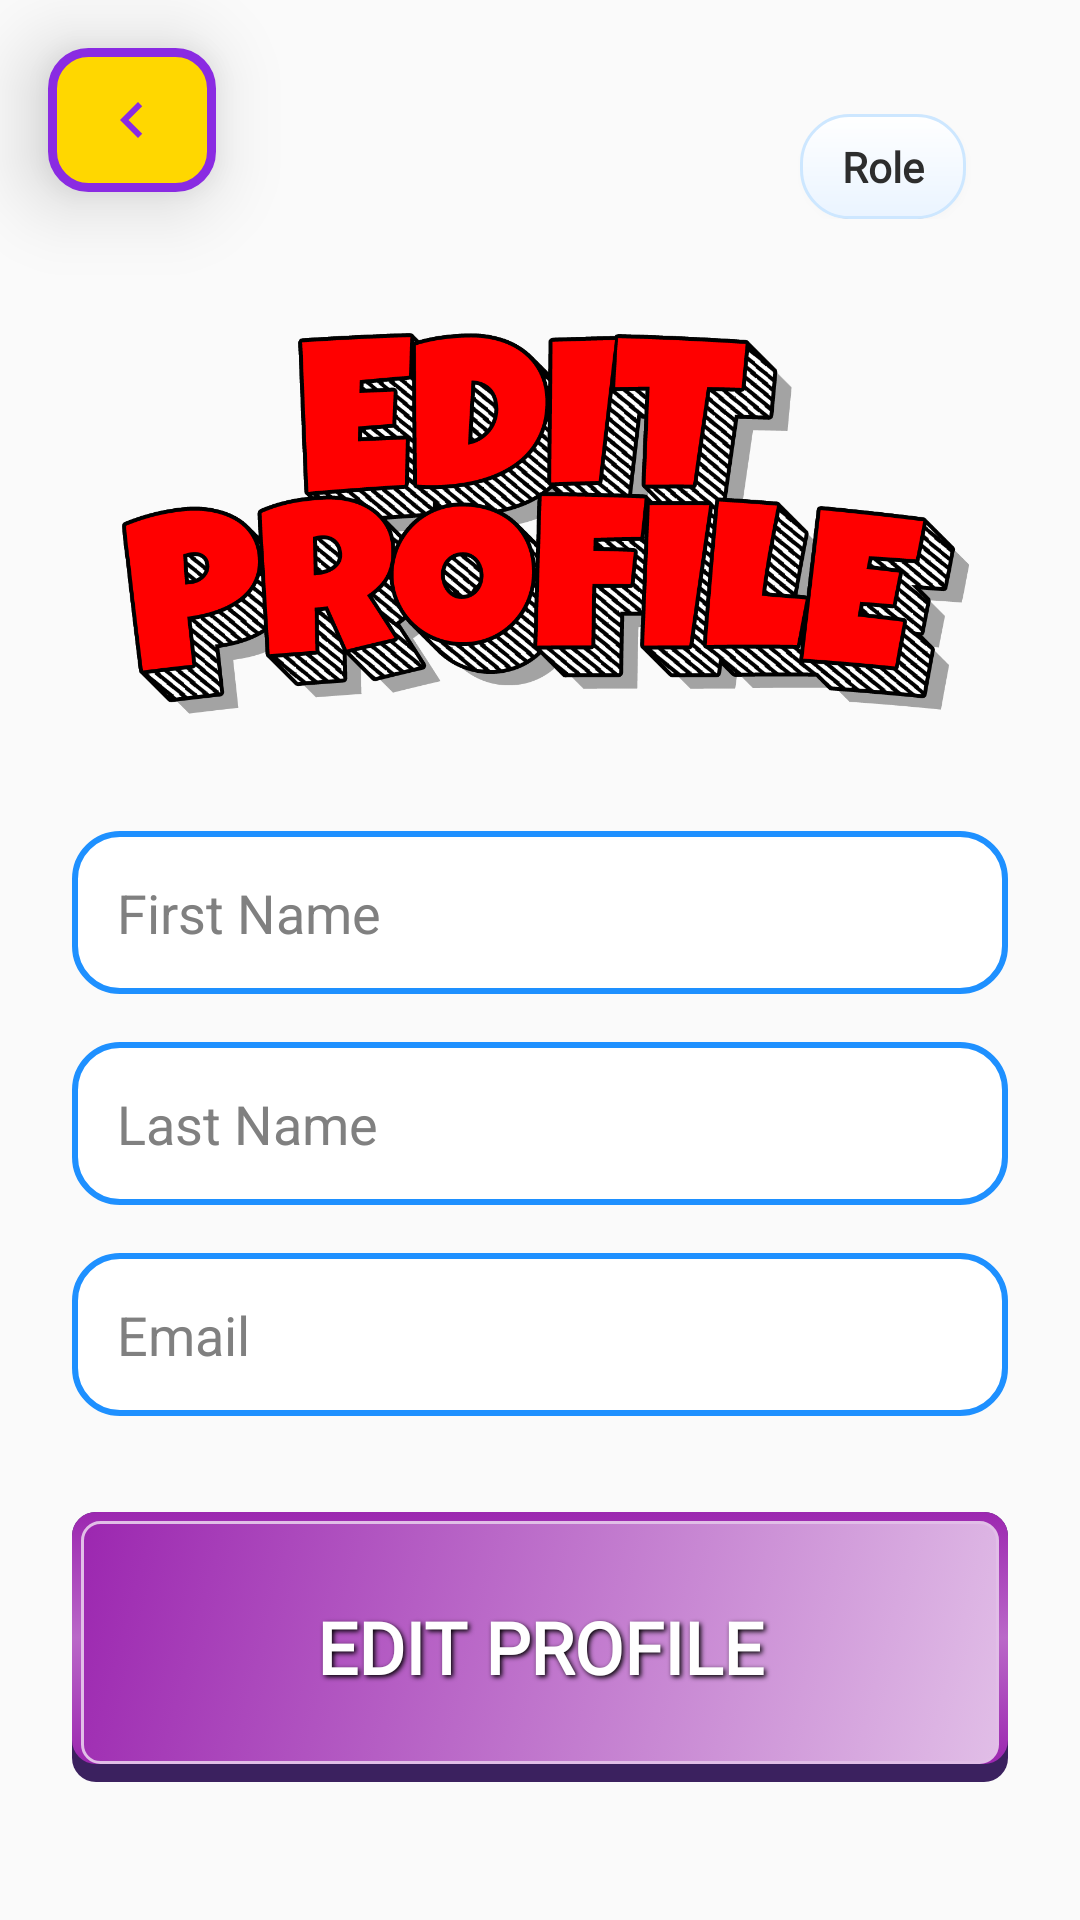

Icons on this 1080x1920 Android screen, each with its box as (x1, y1, x2, y2):
Back: (48, 48, 216, 192)
